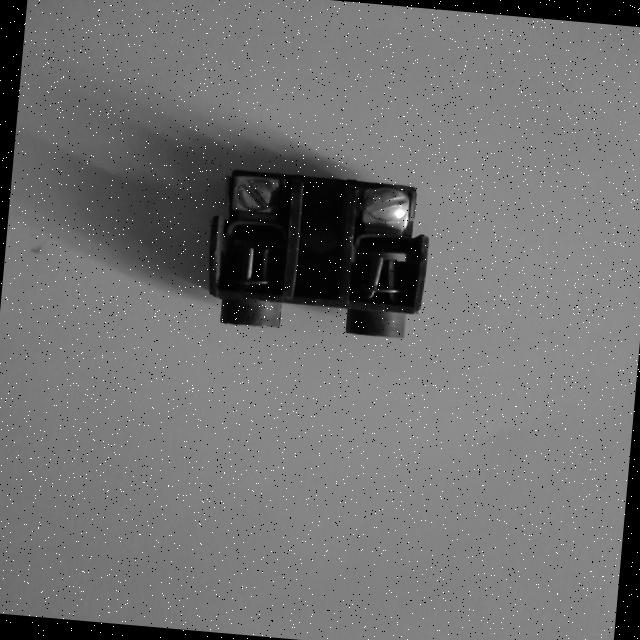Slotted: (233, 175, 280, 213), (363, 186, 411, 223)
